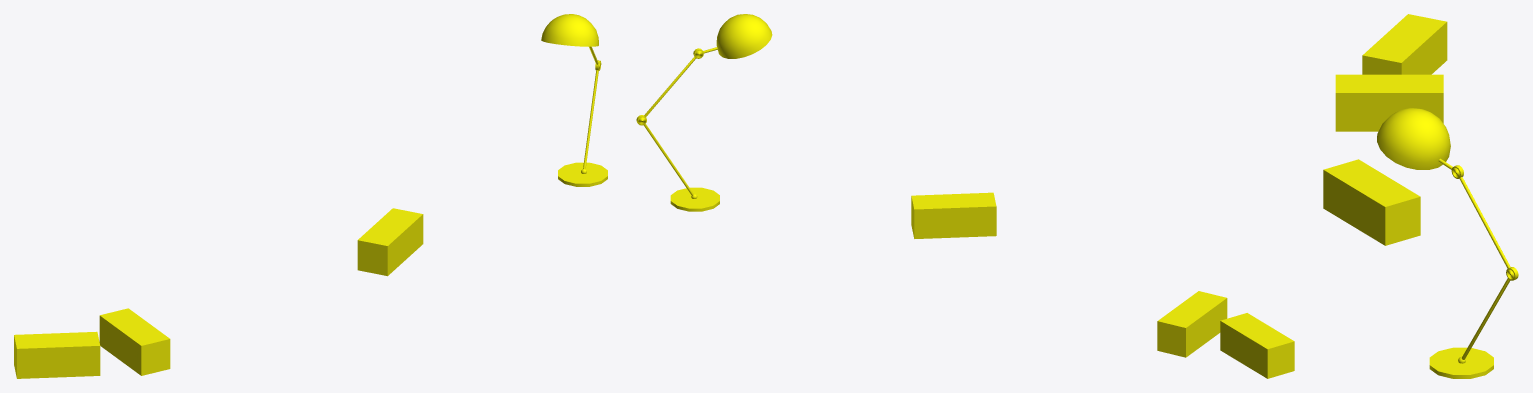
Rendered from Lamp002.FBX.
The picture shows the model from 3 angles, left to right: view 1: azimuth 30°, elevation 25°; view 2: azimuth 150°, elevation 25°; view 3: azimuth 270°, elevation 25°; orthographic projection. The views are drawn at different scales.
Visible parts, largest first — view 1: Lamp002; view 2: Lamp002; view 3: Lamp002.
Boxes of the visible parts, <box> form: Lamp002: <box>14,14,607,378</box>; Lamp002: <box>636,14,1294,378</box>; Lamp002: <box>1323,14,1518,378</box>.
Bounding box in the file's own units: 2.09 × 0.4382 × 0.7209.
